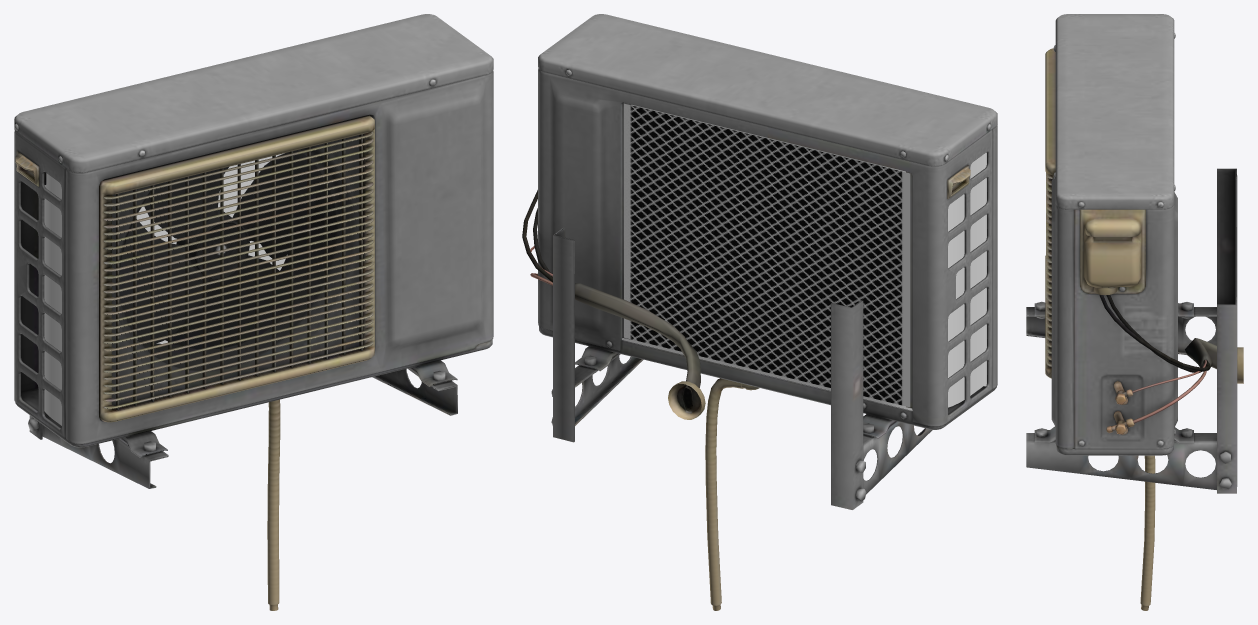
Rendered from real-aircon.glb.
3 views of the same model, side by side, from view 1: azimuth 30°, elevation 25°; view 2: azimuth 150°, elevation 25°; view 3: azimuth 270°, elevation 25° (orthographic). The views are drawn at different scales.
Parts seen in each view (by area): view 1: exterior_aircon_unit; view 2: exterior_aircon_unit; view 3: exterior_aircon_unit.
Boxes of the visible parts, x1,y1,x2,y2 form: exterior_aircon_unit: (14,14,493,610); exterior_aircon_unit: (522,14,997,610); exterior_aircon_unit: (1026,14,1243,610).
Bounding box in the file's own units: 0.8 × 0.9279 × 0.3742.
Materials: 2 (2 with a texture image).
